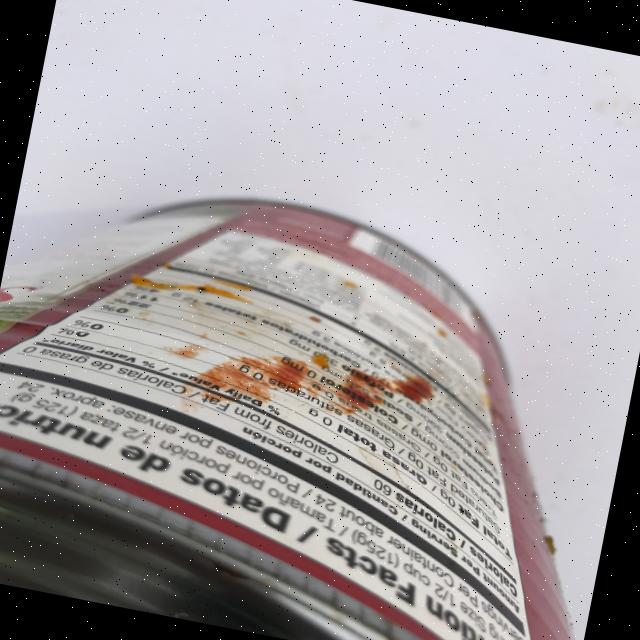metal: (0, 149, 640, 640)
